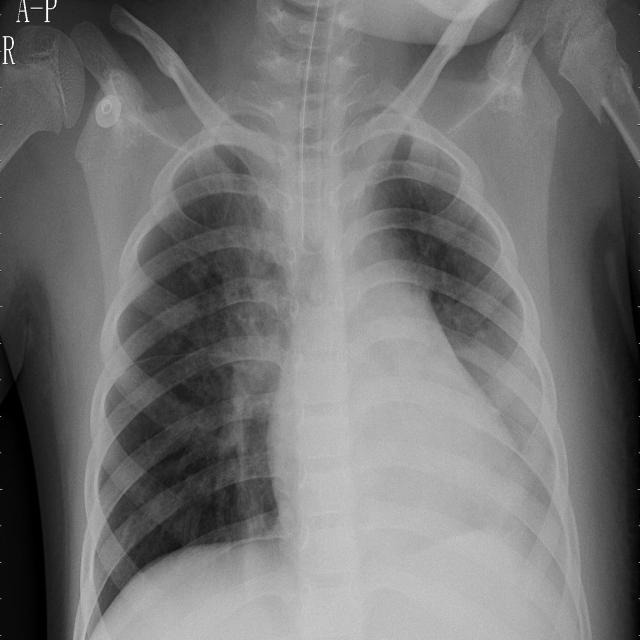low-pneumonia: (442, 325, 572, 516), (220, 191, 292, 521)
